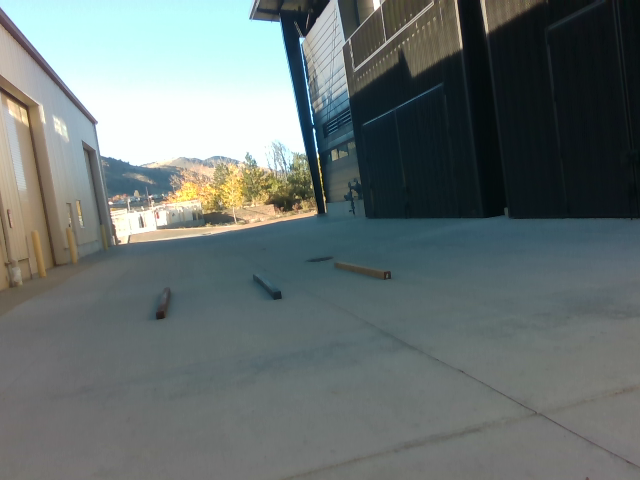Dunnage: (146, 245, 395, 331)
